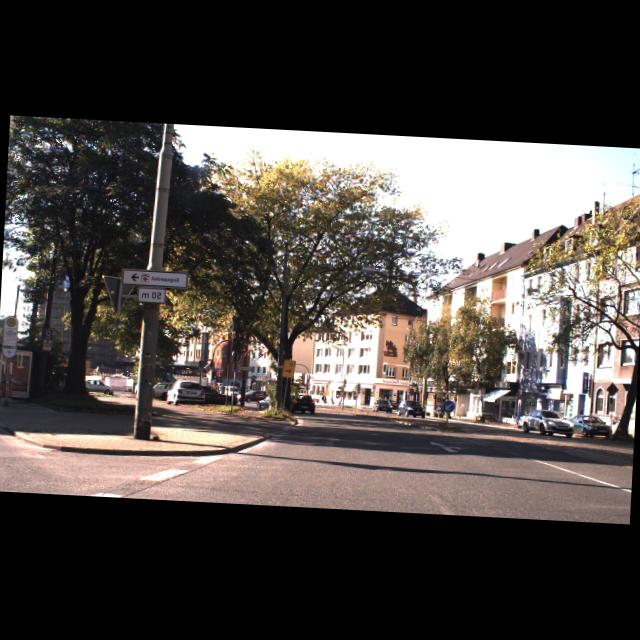mandatory: (442, 400, 456, 414)
